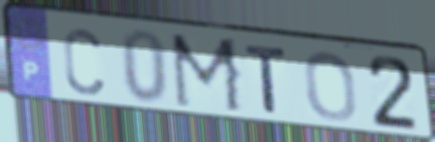0: (119, 27, 174, 108)
2: (366, 53, 421, 134)
C: (60, 25, 106, 98)
M: (168, 31, 246, 117)
O: (302, 49, 360, 124)
T: (242, 43, 290, 116)
